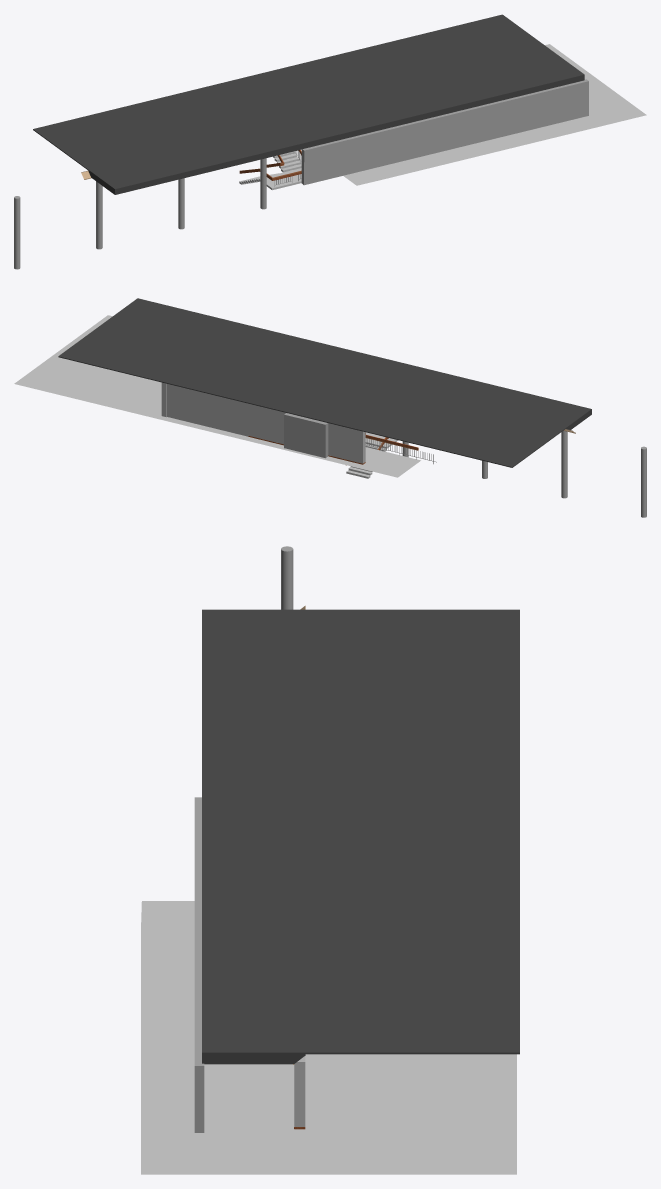
File: Gallery Mesh.fbx
3 views of the same model, one above another, from view 1: azimuth 30°, elevation 25°; view 2: azimuth 150°, elevation 25°; view 3: azimuth 270°, elevation 25° (orthographic). The views are drawn at different scales.
Parts seen in each view (by area): view 1: polySurface1, Placeholder, Floors, Stairs, pCylinder7, pCylinder6; view 2: polySurface1, Floors, Base_Wall (×2), Entrance_Wall_Placeholder, Stairs, pCylinder6, pCylinder7, Fence1; view 3: polySurface1, Floors, Placeholder.
Part boxes in pixels (<box>): polySurface1: <box>33,14,584,194</box>; Placeholder: <box>301,79,588,185</box>; Floors: <box>343,44,646,185</box>; Stairs: <box>239,151,301,190</box>; pCylinder7: <box>14,196,20,269</box>; pCylinder6: <box>96,181,102,249</box>; polySurface1: <box>58,298,591,467</box>; Floors: <box>14,315,420,477</box>; Base_Wall (×2): <box>167,384,365,463</box>; Entrance_Wall_Placeholder: <box>284,413,328,458</box>; Stairs: <box>346,432,397,478</box>; pCylinder6: <box>561,431,567,498</box>; pCylinder7: <box>641,446,646,517</box>; Fence1: <box>366,438,436,464</box>; polySurface1: <box>202,609,519,1064</box>; Floors: <box>141,901,516,1174</box>; Placeholder: <box>194,797,204,1132</box>.
Size of the model in its own units: 2586 by 318 by 737.
